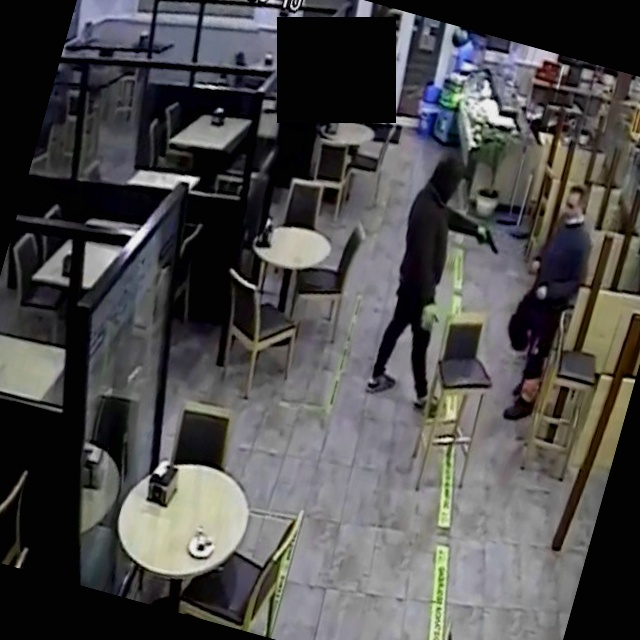gun: (465, 218, 511, 268)
